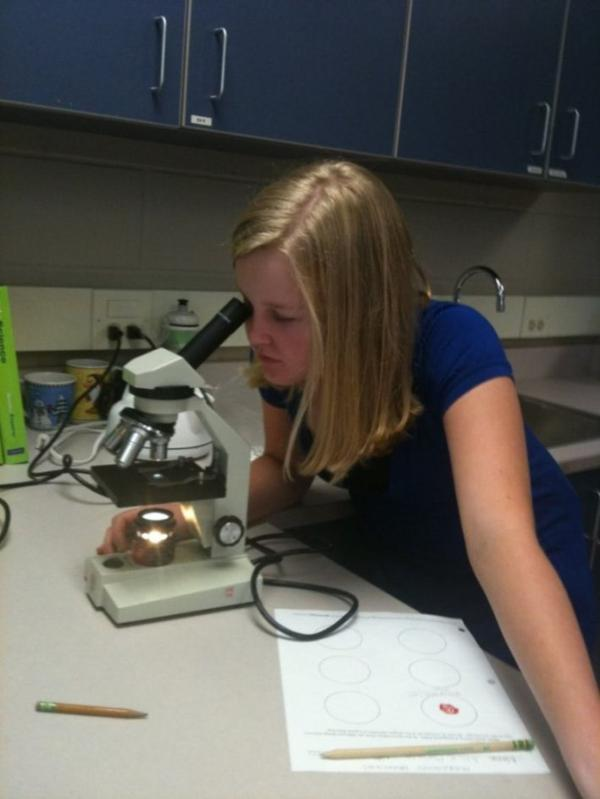person: (95, 162, 598, 798)
